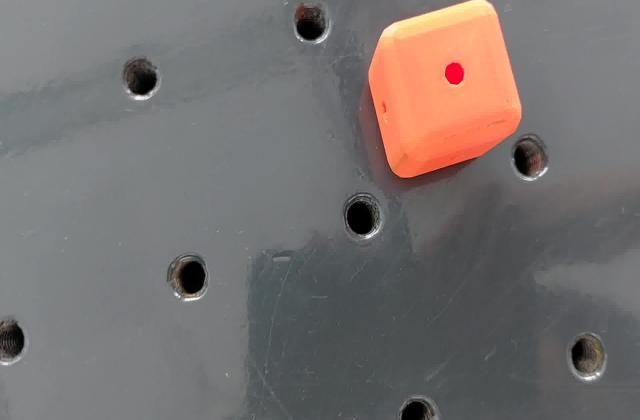cube: (366, 2, 524, 184)
